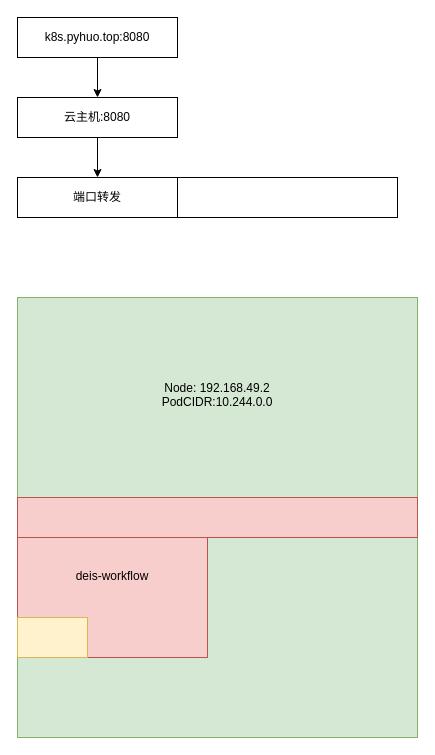
This 435x755 diagram has some shape labels left out. The box of each missing label's shape, as (x1, y1, x2, y2) in pixels:
kubectl port-forward --address 0.0.0.0 pod_name 8080:container_port: (176, 176, 398, 218)
pod: (16, 616, 88, 658)
service: (16, 496, 418, 538)
